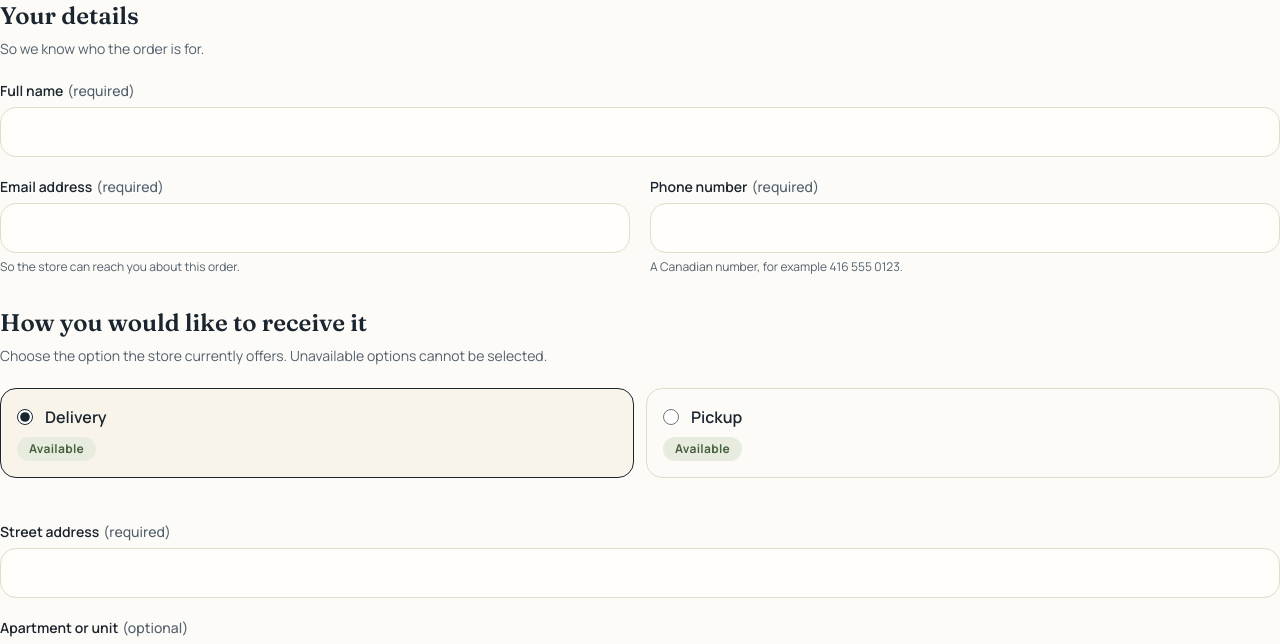
it: CustomerForm: validation › clears an error as soon as the customer fixes the field
Click the field labelled "Full name(required)": (640, 132) 0,107 -> 1279,157
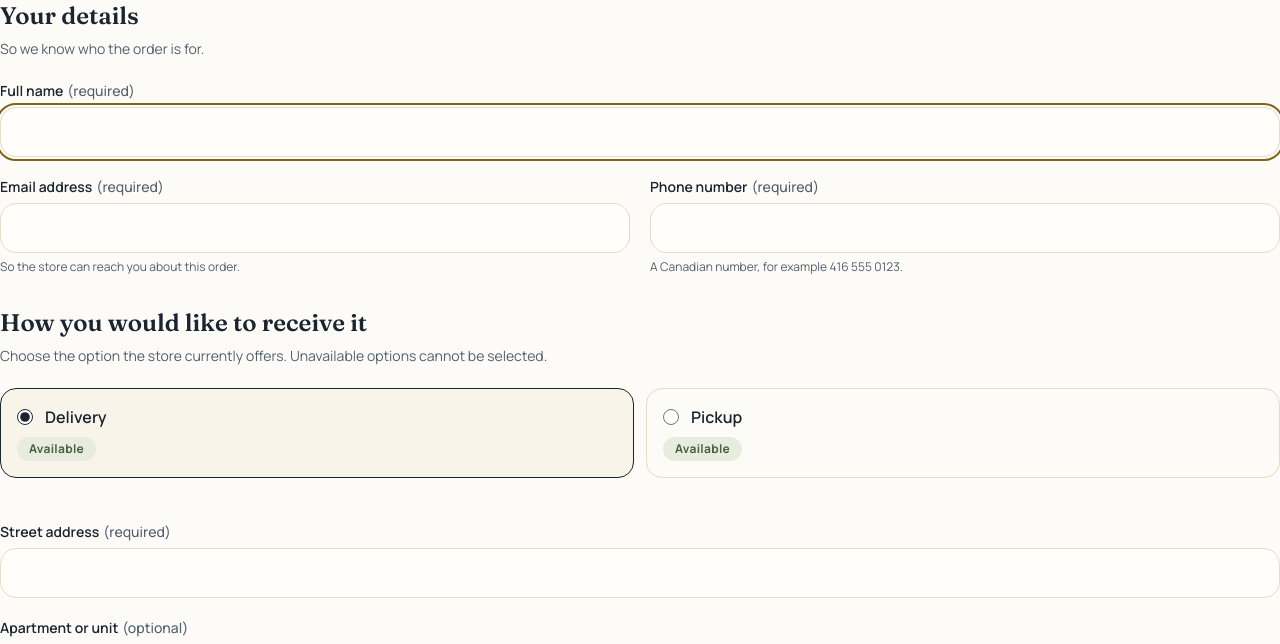
Press Tab
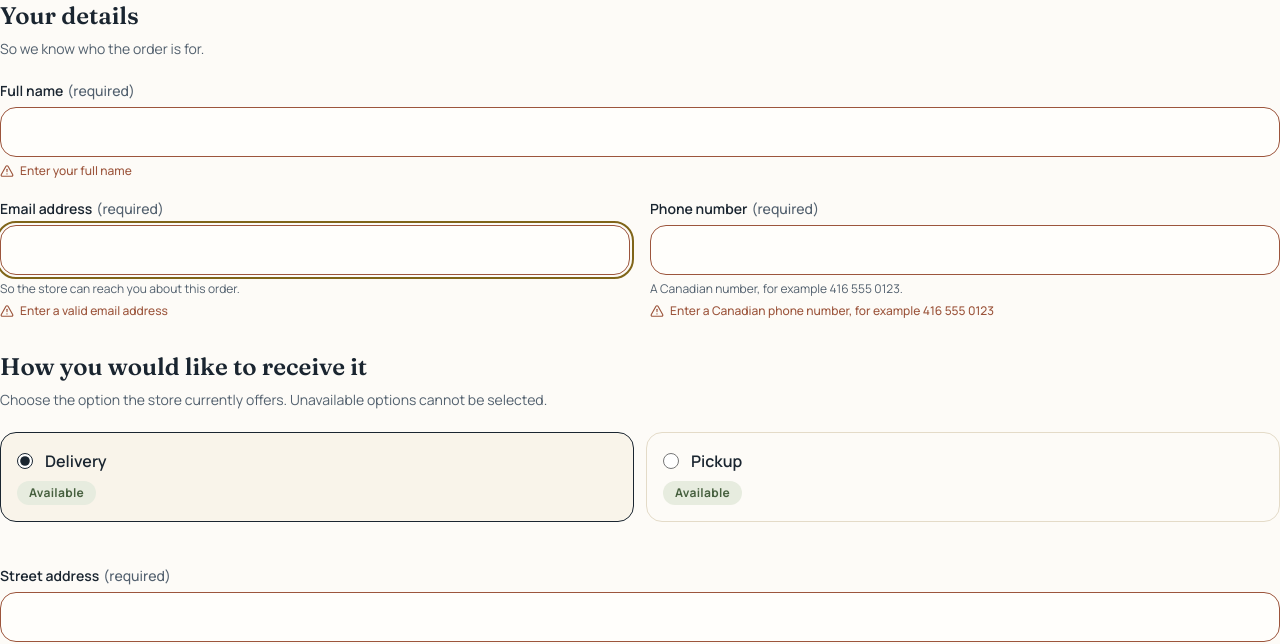
Now the text "Enter your full name" is shown, box 0,162 -> 132,179
In the field labelled "Full name(required)": (640, 132) 0,107 -> 1279,157, type "Ada Okonkwo"
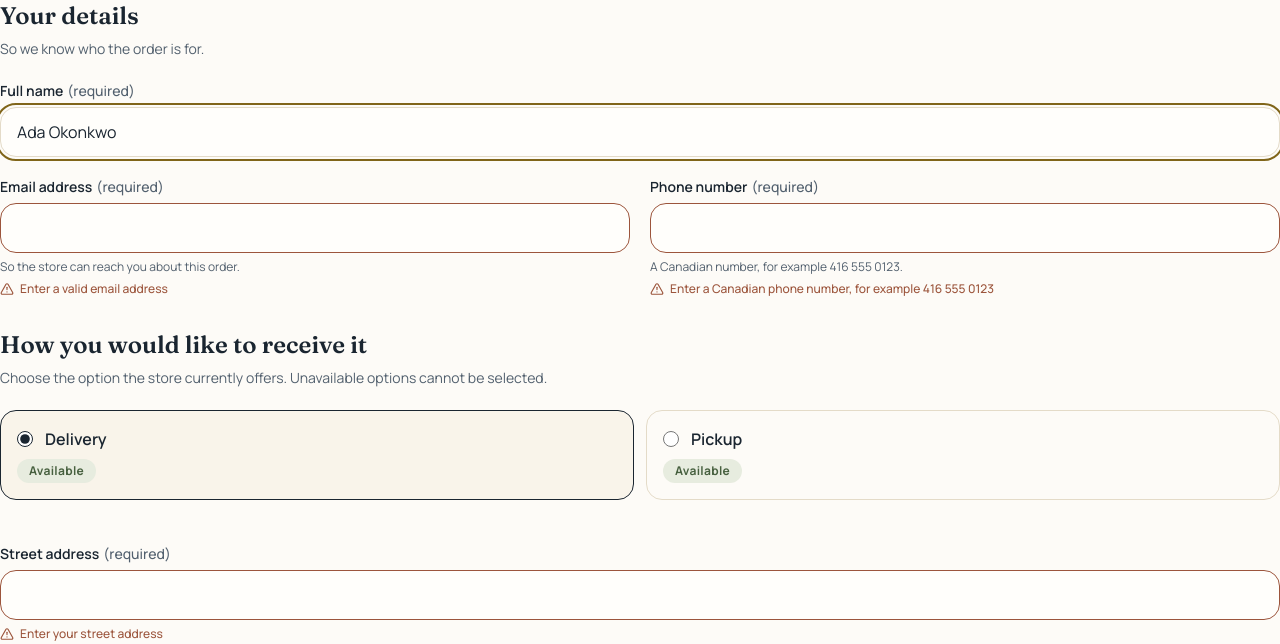
Now the text "Enter your full name" is gone
